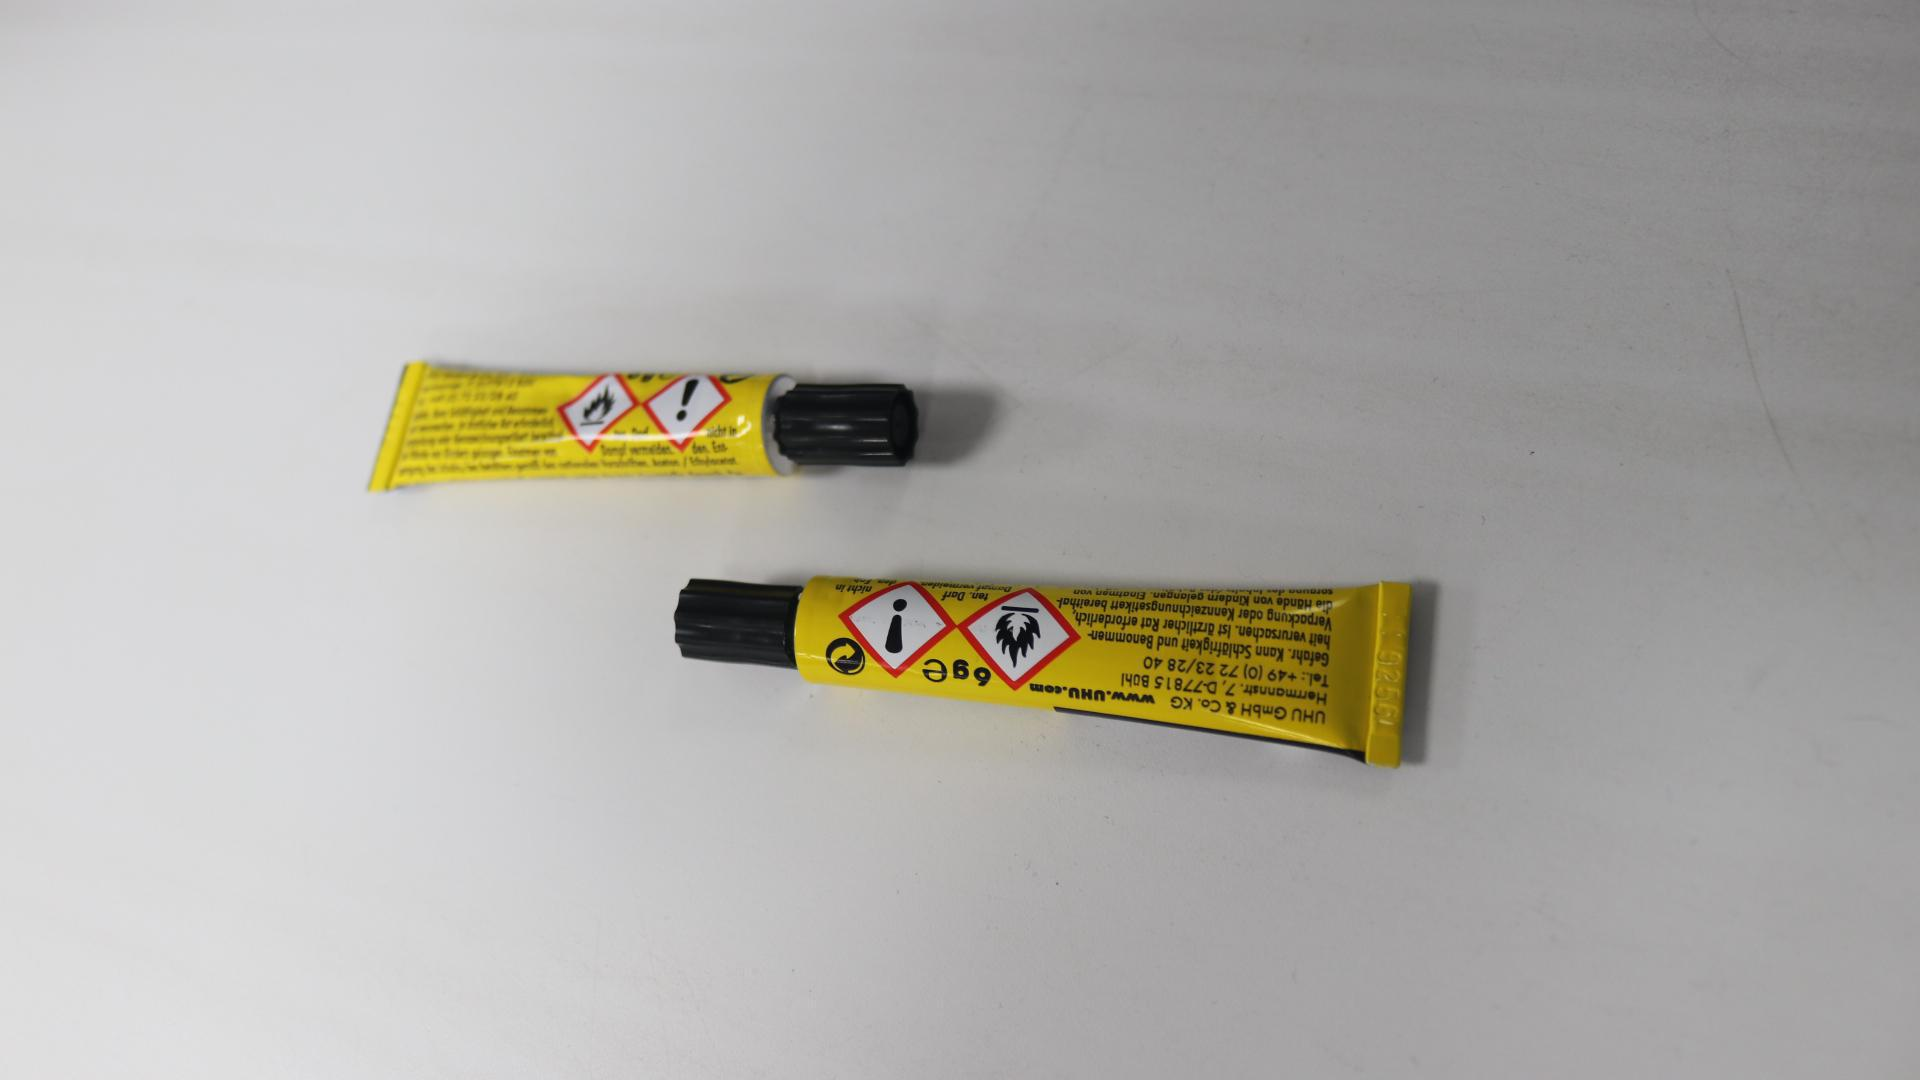Head: (830, 414, 846, 435), (728, 618, 744, 634)
Tail: (1380, 658, 1398, 686), (389, 418, 407, 436)
Tube: (672, 576, 1413, 770), (363, 358, 922, 494)
